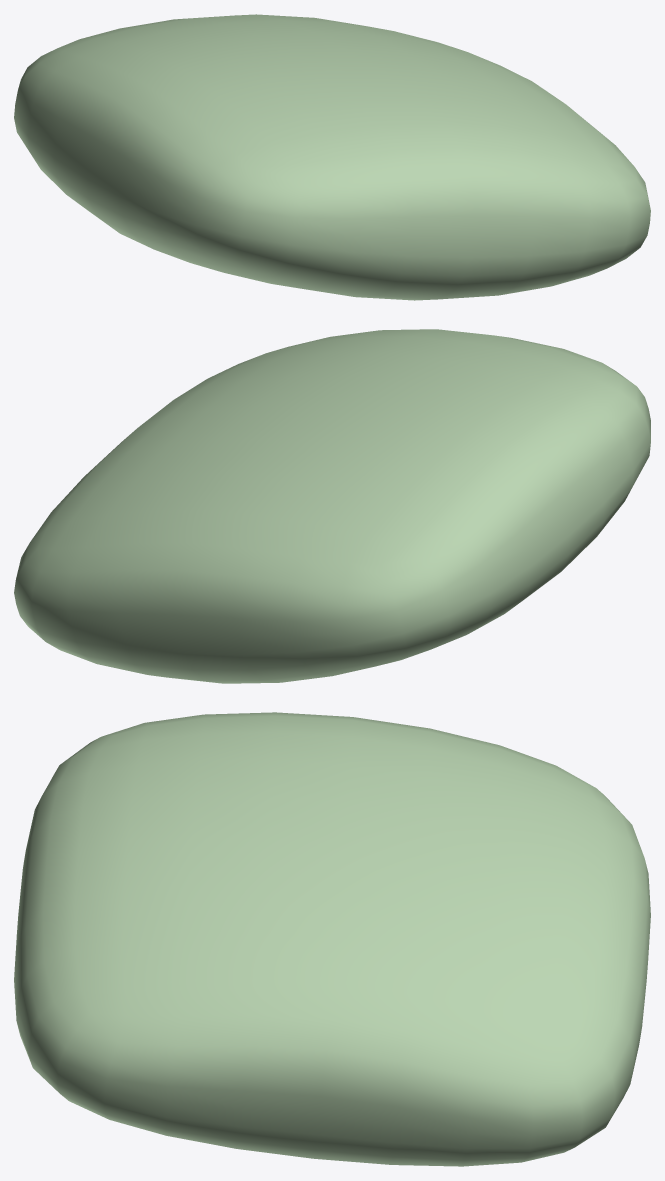
Rendered from pillow03.fbx.
The picture shows the model from 3 angles, top to bottom: view 1: azimuth 30°, elevation 25°; view 2: azimuth 150°, elevation 25°; view 3: azimuth 270°, elevation 25°; orthographic projection. The views are drawn at different scales.
Parts seen in each view (by area): view 1: pillow.002; view 2: pillow.002; view 3: pillow.002.
Boxes of the visible parts, left/top/right/bottom form: pillow.002: left=14, top=14, right=650, bottom=300; pillow.002: left=14, top=329, right=650, bottom=683; pillow.002: left=14, top=712, right=650, bottom=1166.
Bounding box in the file's own units: 65.53 × 31.9 × 69.64.
